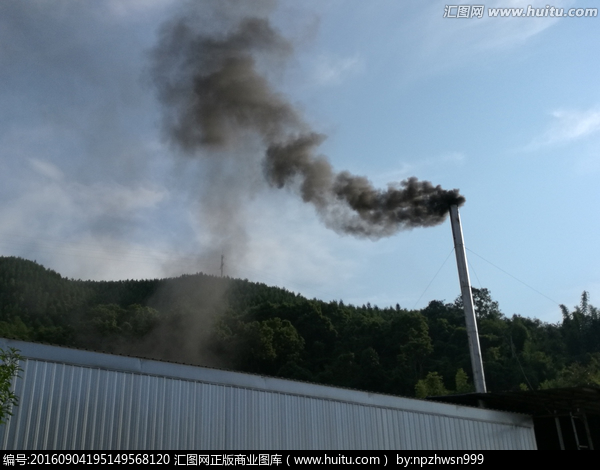dust: (224, 96, 503, 239)
